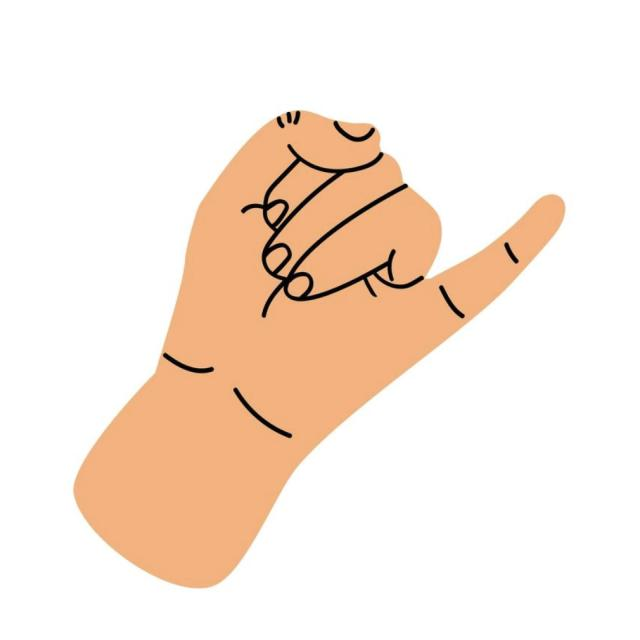pinky: (403, 176, 575, 348)
